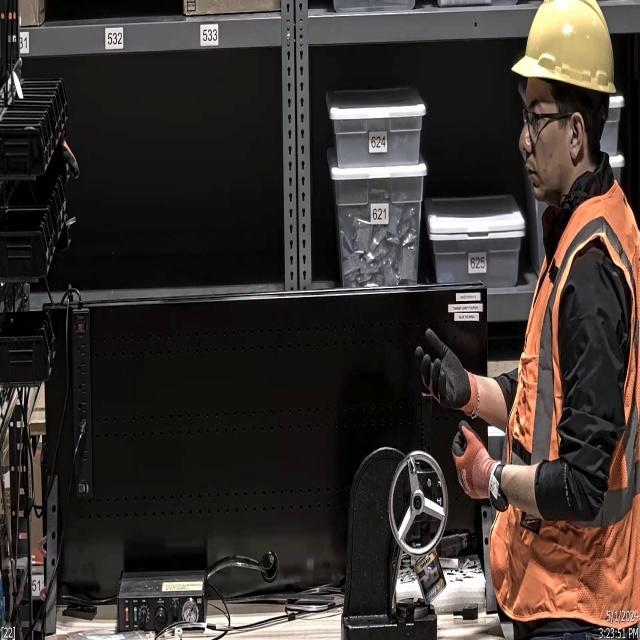gloves: (412, 329, 487, 420), (448, 423, 508, 511)
